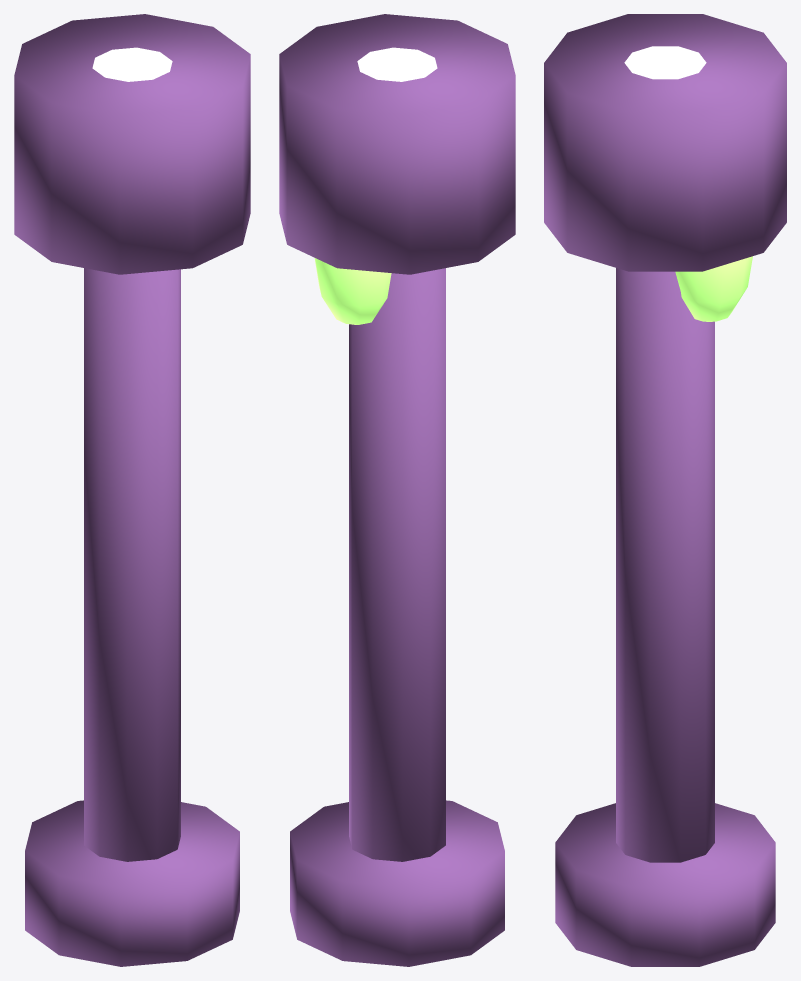
File: SlimeLamp.fbx
3 renders of one model, left to right at view 1: azimuth 30°, elevation 25°; view 2: azimuth 150°, elevation 25°; view 3: azimuth 270°, elevation 25°, orthographic.
Visible parts, largest first — view 1: SlimeLamp; view 2: SlimeLamp; view 3: SlimeLamp.
Part boxes in pixels (x1=…): SlimeLamp: x1=14, y1=14, x2=250, y2=966; SlimeLamp: x1=279, y1=14, x2=515, y2=966; SlimeLamp: x1=544, y1=14, x2=786, y2=966.
Bounding box in the file's own units: 0.2092 × 0.87 × 0.22.
